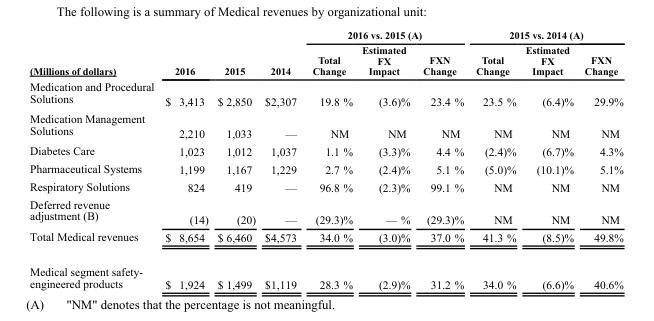table: (29, 28, 622, 290)
table column: (29, 28, 158, 290), (356, 28, 415, 290), (520, 28, 578, 290), (158, 28, 212, 290), (415, 28, 469, 290), (303, 28, 356, 290), (469, 28, 520, 290), (212, 28, 259, 290), (259, 28, 303, 290), (578, 28, 622, 290)
table column header: (29, 28, 622, 77)
table row: (29, 254, 622, 290), (29, 42, 622, 77), (29, 77, 622, 109), (29, 109, 622, 141), (29, 195, 622, 227), (29, 227, 622, 254), (29, 141, 622, 159), (29, 159, 622, 177), (29, 177, 622, 195), (29, 28, 622, 42)
table spanning cell: (29, 28, 158, 77), (158, 28, 212, 77), (303, 28, 469, 42), (212, 28, 259, 77), (259, 28, 303, 77), (469, 28, 622, 42)
